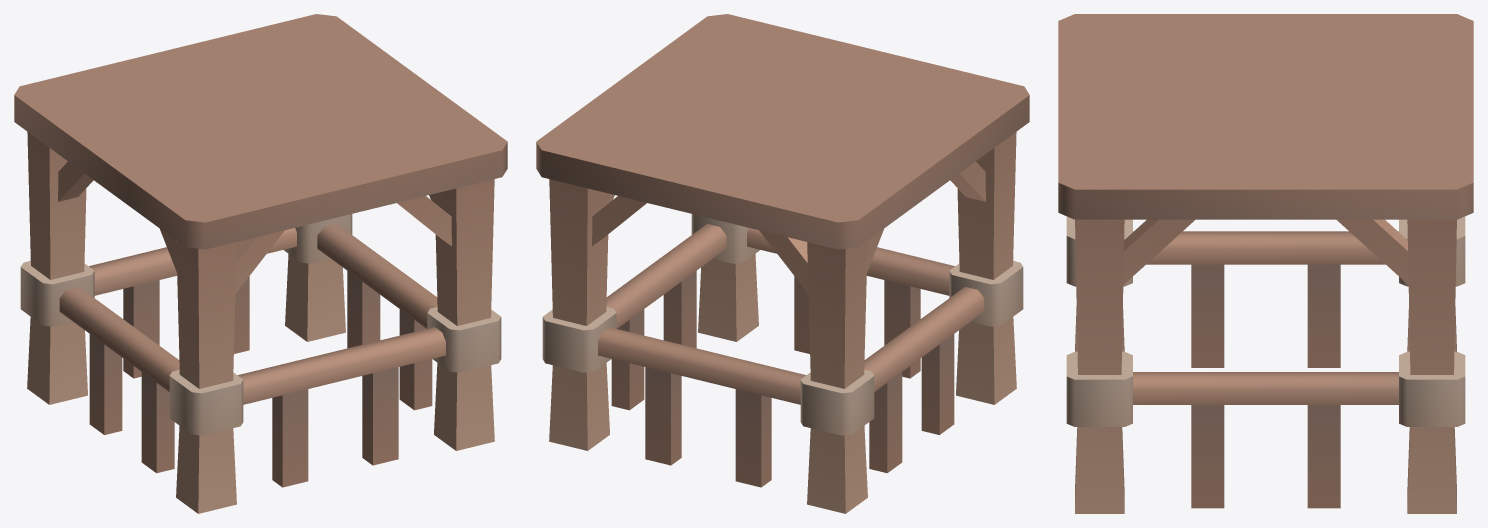
File: structure-fence-sides.glb
3 views of the same model, side by side, from view 1: azimuth 30°, elevation 25°; view 2: azimuth 150°, elevation 25°; view 3: azimuth 270°, elevation 25° (orthographic). The views are drawn at different scales.
Parts seen in each view (by area): view 1: structure-fence-sides, Group; view 2: structure-fence-sides, Group; view 3: structure-fence-sides.
Boxes of the visible parts, left/top/right/bottom form: structure-fence-sides: left=14, top=14, right=507, bottom=513; Group: left=89, top=228, right=445, bottom=487; structure-fence-sides: left=536, top=14, right=1029, bottom=513; Group: left=598, top=228, right=954, bottom=487; structure-fence-sides: left=1058, top=14, right=1473, bottom=513.
Bounding box in the file's own units: 2.5 × 2.2 × 2.5.
